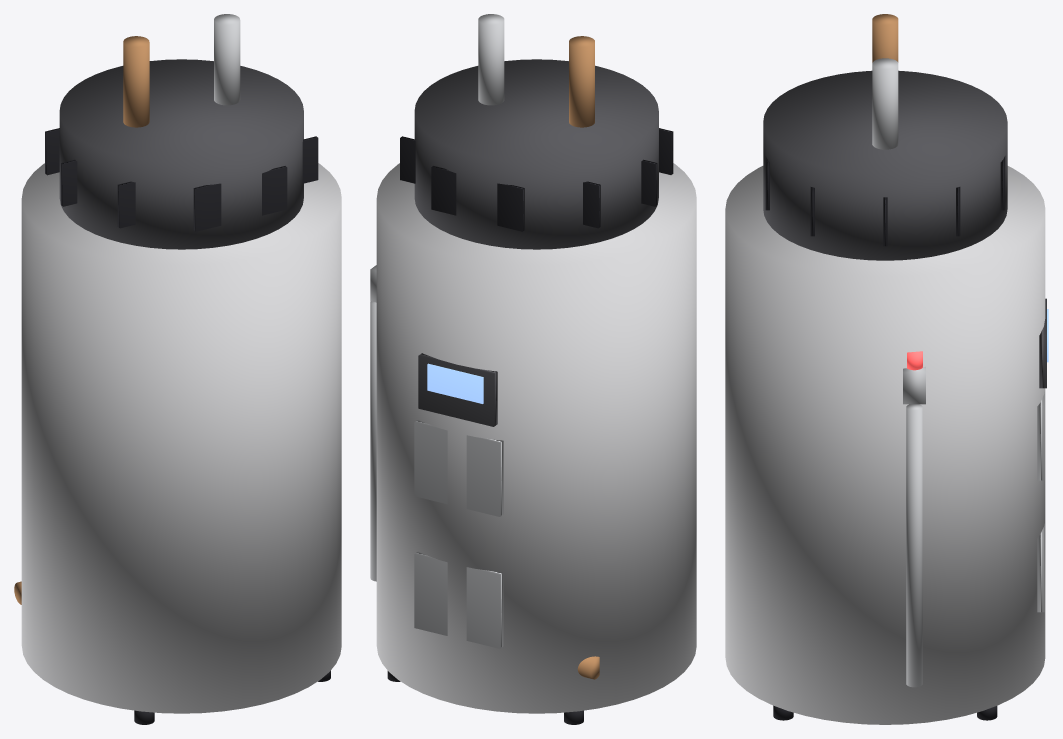
The model's file is water-heater.glb.
3 views of the same model, side by side, from view 1: azimuth 30°, elevation 25°; view 2: azimuth 150°, elevation 25°; view 3: azimuth 270°, elevation 25° (orthographic).
Parts seen in each view (by area): view 1: tank, hp, pipe_hot, pipe_cold, louver_7, louver_8, louver_6, louver_9, louver_5, louver_4; view 2: tank, hp, elem_up, elem_lo, ui, pipe_cold, pipe_hot, tpr_pipe, ui_glass, louver_3, louver_2, louver_4 (+3 smaller); view 3: tank, hp, tpr_pipe, pipe_cold, pipe_hot, tpr, elem_up, elem_lo, ui.
Part boxes in pixels (x1,y1,x2,y2): tank: (21, 163, 341, 713); hp: (59, 59, 303, 249); pipe_hot: (123, 36, 149, 127); pipe_cold: (214, 14, 240, 105); louver_7: (193, 183, 221, 231); louver_8: (262, 166, 287, 215); louver_6: (117, 181, 135, 228); louver_9: (302, 136, 318, 183); louver_5: (61, 159, 77, 206); louver_4: (45, 128, 59, 175); tank: (376, 163, 696, 713); hp: (414, 59, 658, 249); elem_up: (414, 420, 503, 516); elem_lo: (414, 551, 503, 648); ui: (418, 353, 497, 426); pipe_cold: (478, 14, 504, 105); pipe_hot: (569, 36, 594, 127); tpr_pipe: (370, 301, 376, 581); ui_glass: (427, 363, 483, 403); louver_3: (497, 183, 524, 231); louver_2: (431, 166, 456, 215); louver_4: (583, 181, 600, 228); tank: (725, 166, 1045, 724); hp: (763, 70, 1007, 260); tpr_pipe: (906, 404, 922, 687); pipe_cold: (872, 58, 898, 149); pipe_hot: (872, 14, 898, 62); tpr: (903, 366, 925, 404); elem_up: (1037, 392, 1044, 480); elem_lo: (1037, 524, 1044, 612); ui: (1039, 298, 1046, 388).
Size of what is drawn, in the model's own units: 1.15 by 2.4 by 1.11.
